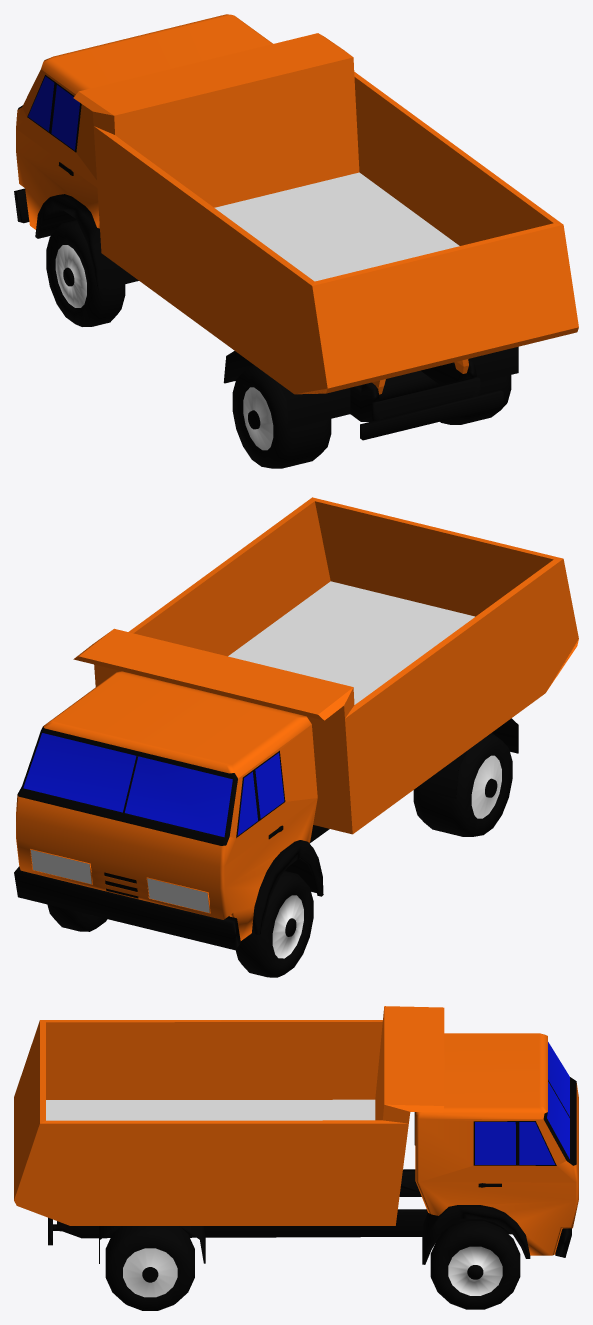
Rendered from Truck_Updated.fbx.
The picture shows the model from 3 angles, top to bottom: view 1: azimuth 30°, elevation 25°; view 2: azimuth 150°, elevation 25°; view 3: azimuth 270°, elevation 25°; orthographic projection. The views are drawn at different scales.
Visible parts, largest first — view 1: Truck Bed, Truck Body, Truck Bed Door 1, Truck Bed Door 2, Rear Tyres, Front Tyres; view 2: Truck Body, Truck Bed, Truck Bed Door 2, Truck Bed Door 1, Rear Tyres, Front Tyres; view 3: Truck Bed, Truck Body, Truck Bed Door 1, Truck Bed Door 2, Rear Tyres, Front Tyres.
Part boxes in pixels (x1=…): Truck Bed: x1=73, y1=33, x2=578, y2=394; Truck Body: x1=14, y1=14, x2=518, y2=440; Truck Bed Door 1: x1=204, y1=205, x2=299, y2=393; Truck Bed Door 2: x1=115, y1=139, x2=210, y2=328; Rear Tyres: x1=232, y1=365, x2=511, y2=468; Front Tyres: x1=46, y1=220, x2=125, y2=326; Truck Body: x1=14, y1=671, x2=518, y2=949; Truck Bed: x1=73, y1=497, x2=578, y2=834; Truck Bed Door 2: x1=361, y1=635, x2=455, y2=824; Truck Bed Door 1: x1=450, y1=570, x2=545, y2=758; Rear Tyres: x1=413, y1=733, x2=512, y2=836; Front Tyres: x1=47, y1=871, x2=313, y2=977; Truck Bed: x1=14, y1=1006, x2=444, y2=1225; Truck Body: x1=48, y1=1033, x2=578, y2=1264; Truck Bed Door 1: x1=70, y1=1020, x2=221, y2=1099; Truck Bed Door 2: x1=221, y1=1020, x2=372, y2=1099; Rear Tyres: x1=105, y1=1226, x2=194, y2=1310; Front Tyres: x1=430, y1=1221, x2=520, y2=1309.
Bounding box in the file's own units: 1.4 × 3.24 × 1.34.
Materials: 3 (1 with a texture image).
